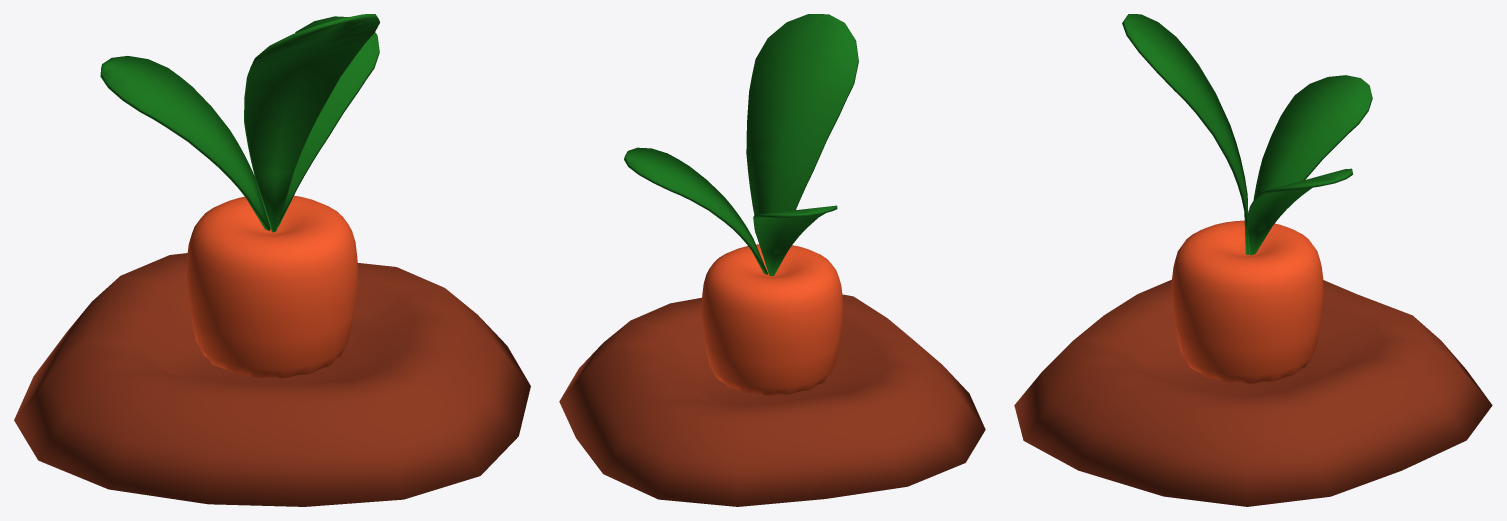
The model's file is Zanahoria_02.fbx.
3 views of the same model, side by side, from view 1: azimuth 30°, elevation 25°; view 2: azimuth 150°, elevation 25°; view 3: azimuth 270°, elevation 25° (orthographic). The views are drawn at different scales.
Parts seen in each view (by area): view 1: Zanahoria_02; view 2: Zanahoria_02; view 3: Zanahoria_02.
Boxes of the visible parts, <box> form: Zanahoria_02: <box>14,14,530,506</box>; Zanahoria_02: <box>559,14,985,506</box>; Zanahoria_02: <box>1014,14,1492,506</box>.
Size of the model in its own units: 414 by 367 by 413.
